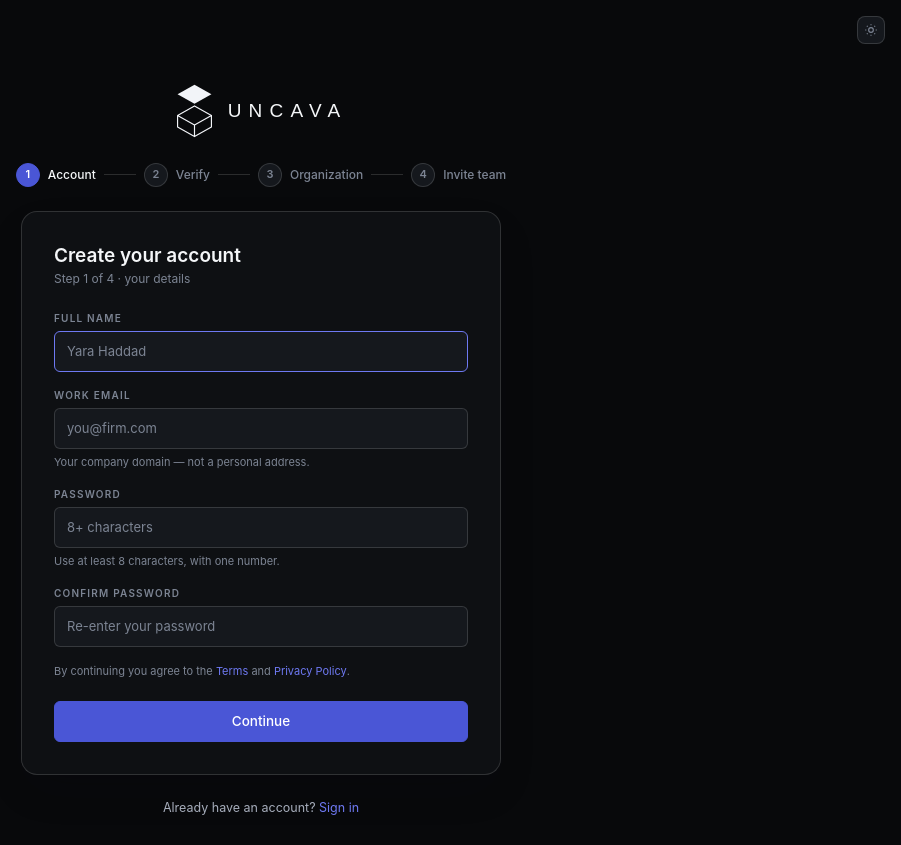
it: SignupPage › offers 'log in instead' when the email already has an account
Step 1. Type "Alok Kumar" into the field with placeholder "Yara Haddad" → (261, 352), box [54, 332, 468, 372]
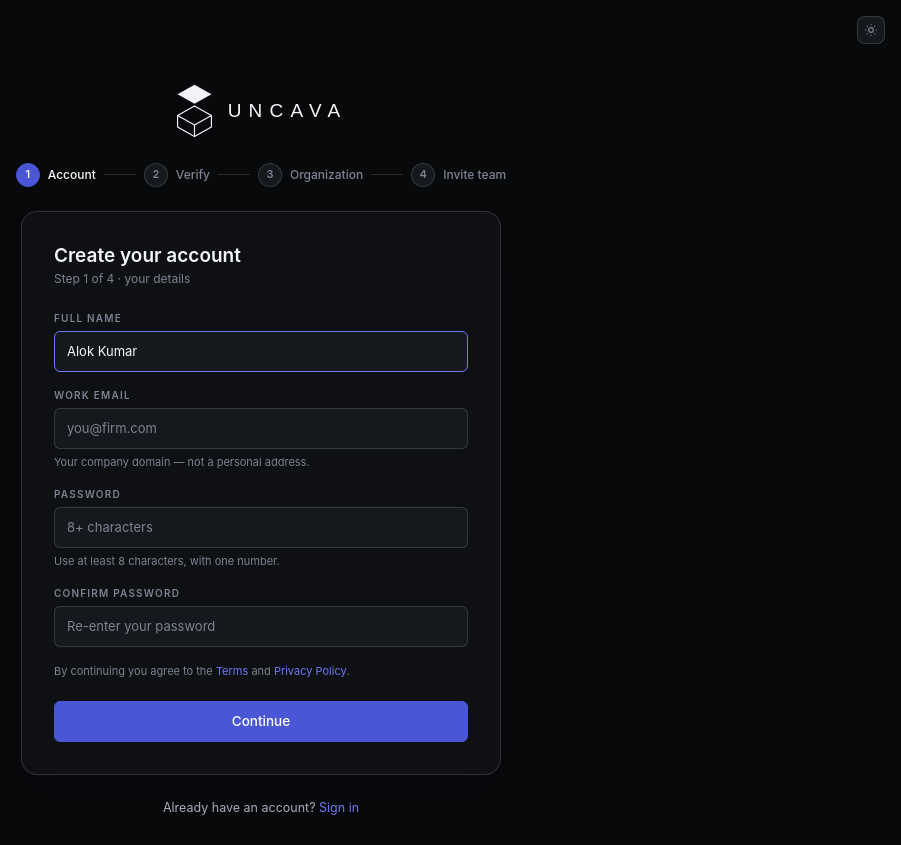
Step 2. Type "alok@nextwebspark.com" into the field with placeholder "you@firm.com" → (261, 429), box [54, 408, 468, 449]
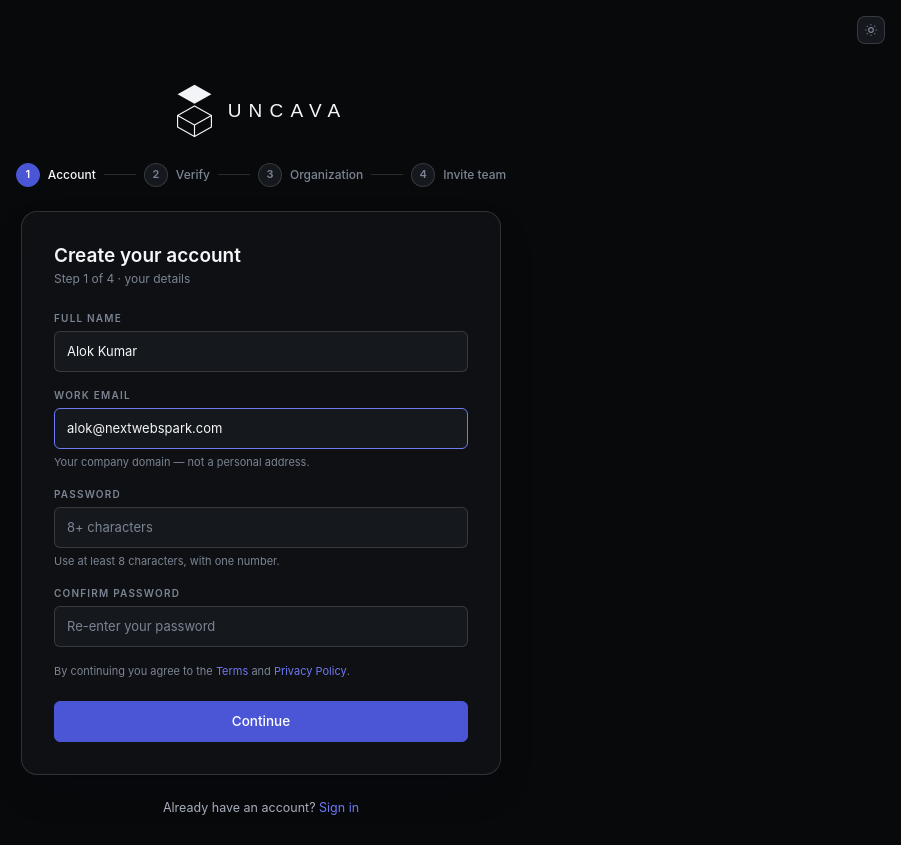
Step 3. Type "secret123" into the password field with placeholder "8+ characters" → (261, 528), box [54, 507, 468, 548]
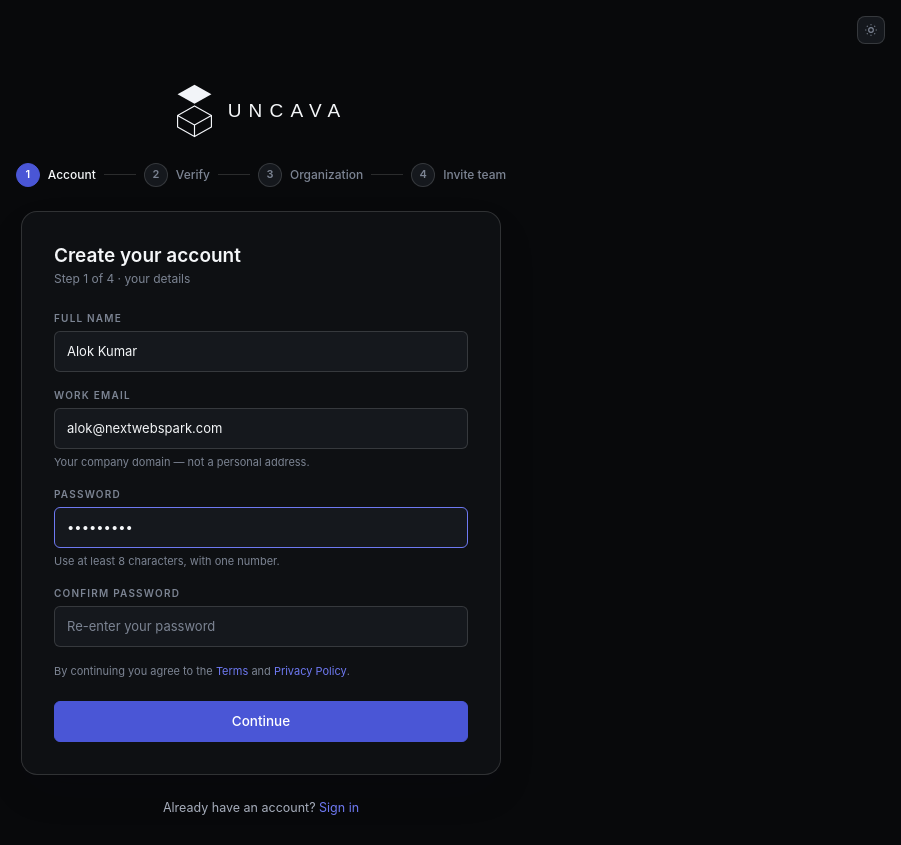
Step 4. Type "secret123" into the password field with placeholder "Re-enter your password" → (261, 626), box [54, 606, 468, 647]
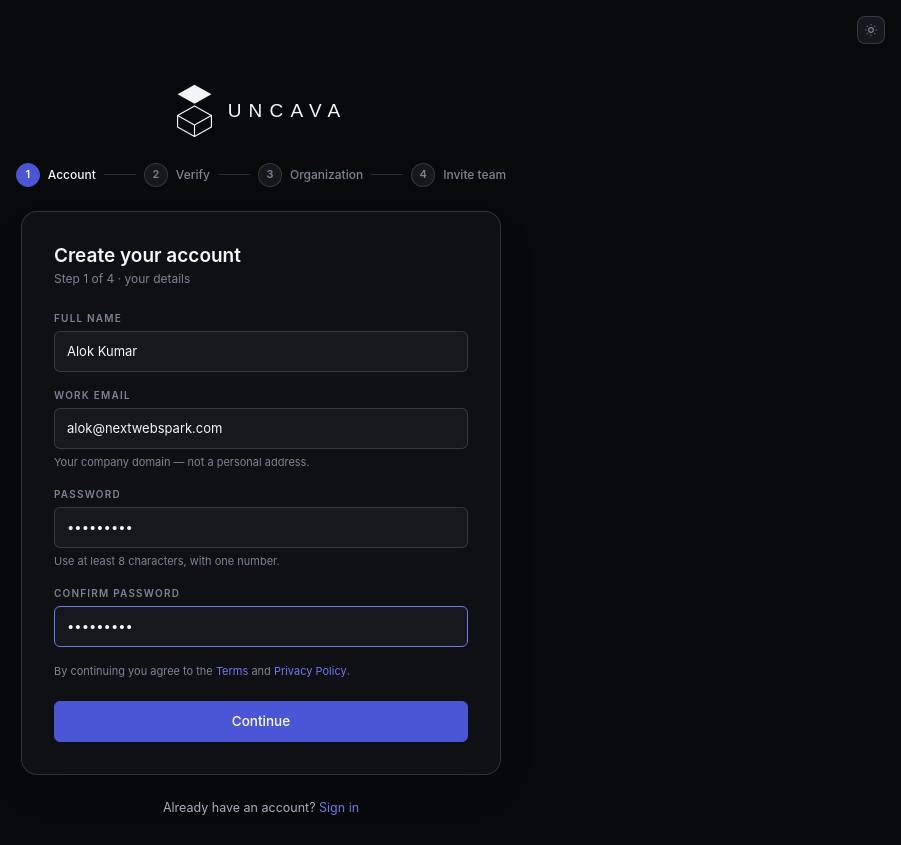
Step 5. Click the button "Continue" → (261, 721), box [54, 701, 468, 742]
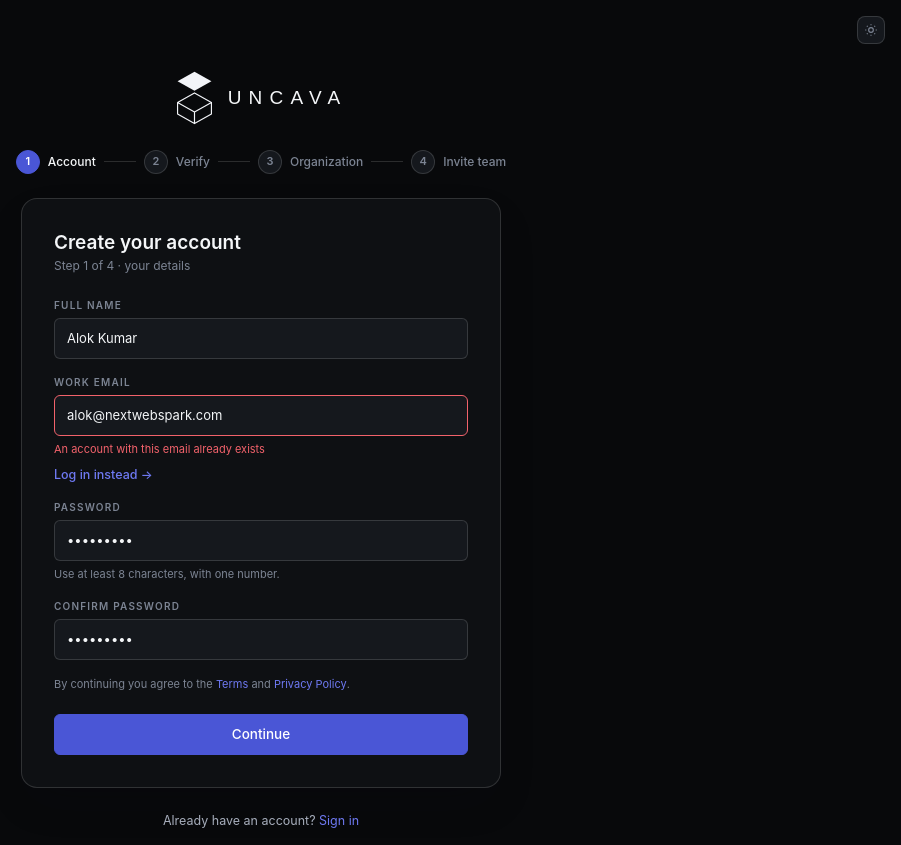
Expected: the text "An account with this email already exists" is shown, [54, 442, 265, 456]
